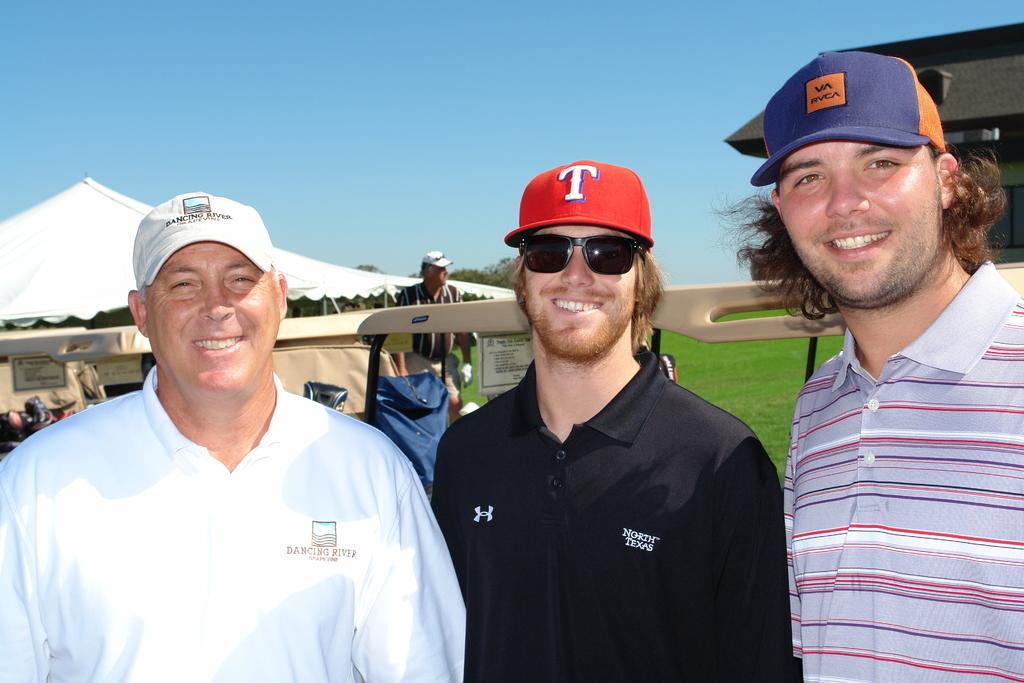Hat: (746, 50, 938, 198), (502, 159, 656, 255), (128, 192, 275, 290), (414, 250, 456, 273)
